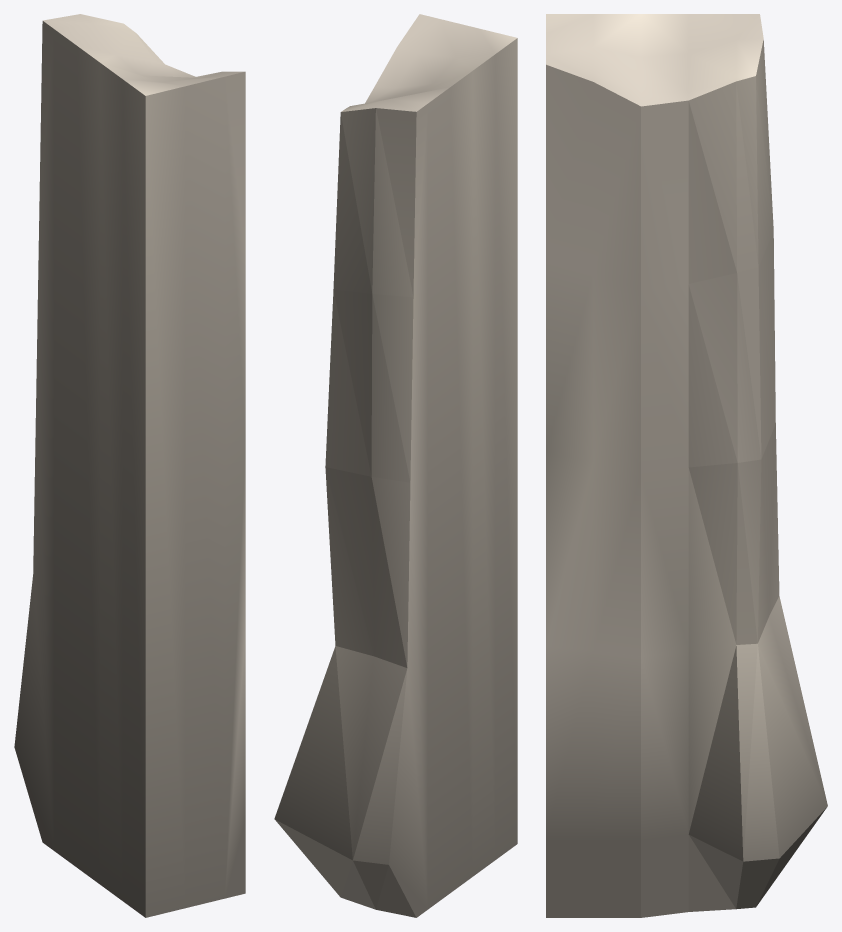
File: SM_VKI_Rock_Cave_FOOO_WallSEN.fbx
3 renders of one model, left to right at view 1: azimuth 30°, elevation 25°; view 2: azimuth 150°, elevation 25°; view 3: azimuth 270°, elevation 25°, orthographic. The views are drawn at different scales.
Parts seen in each view (by area): view 1: SM_VKI_Rock_Cave_FOOO_WallSEN.001; view 2: SM_VKI_Rock_Cave_FOOO_WallSEN.001; view 3: SM_VKI_Rock_Cave_FOOO_WallSEN.001.
Part boxes in pixels (<box>): SM_VKI_Rock_Cave_FOOO_WallSEN.001: <box>14,14,245,917</box>; SM_VKI_Rock_Cave_FOOO_WallSEN.001: <box>274,14,517,917</box>; SM_VKI_Rock_Cave_FOOO_WallSEN.001: <box>546,14,827,917</box>.
Size of the model in its own units: 0.5964 by 3.3 by 0.9882.
